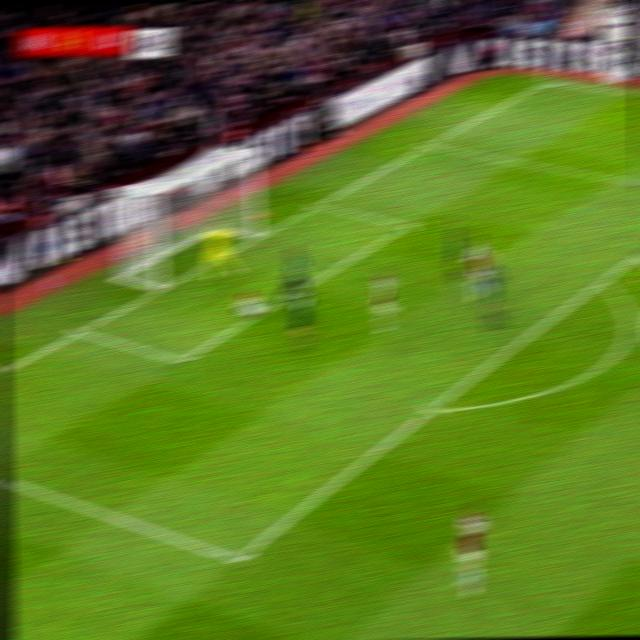bigarea_bottom_inner: (218, 543, 254, 578)
bigarea_top_outter: (418, 136, 439, 150)
bottom_arc_area_intersection: (420, 394, 444, 420)
corner: (537, 76, 560, 85)
smallarea_bottom_inner: (168, 345, 195, 374)
smallarea_bottom_outter: (68, 318, 92, 342)
smallarea_top_inner: (395, 216, 418, 232)
smallarea_top_outter: (306, 197, 328, 214)
top_arc_area_intersection: (591, 270, 613, 290)
